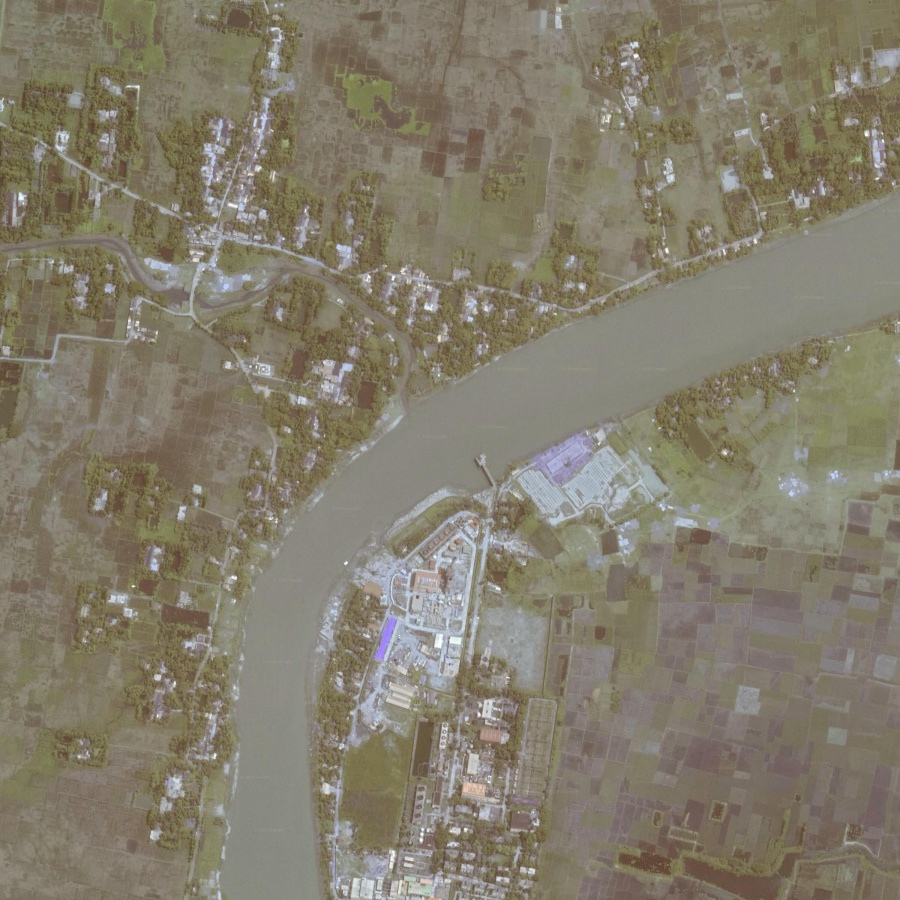PowerPlant: (402, 522, 473, 677)
